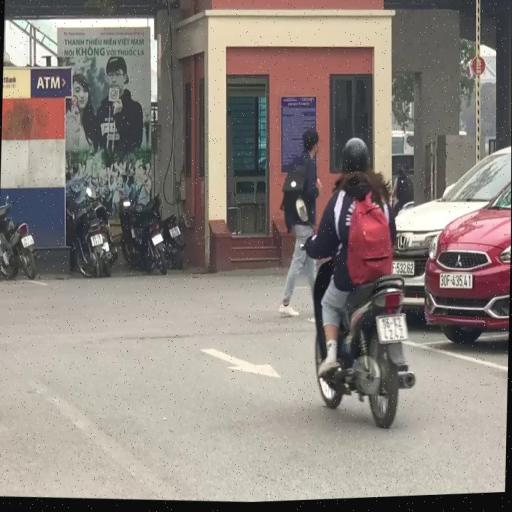bike: (298, 135, 422, 435)
numberplate: (372, 312, 410, 352), (88, 230, 104, 250), (21, 230, 36, 250), (150, 233, 164, 248)
with helmet: (340, 141, 370, 178)
